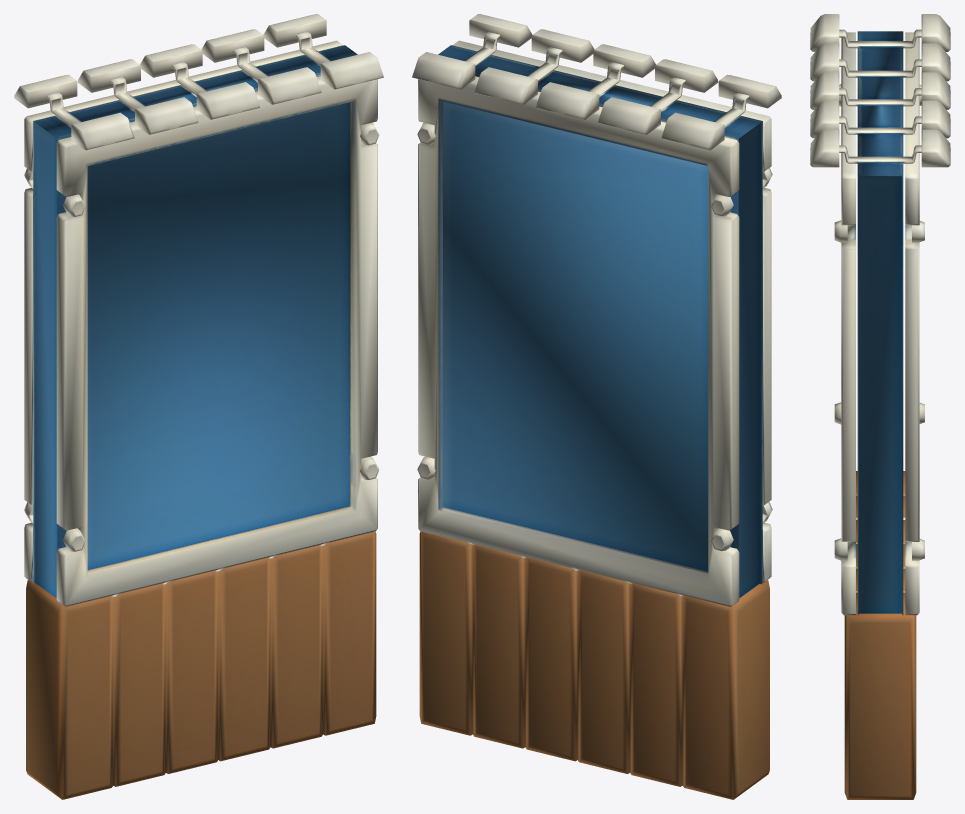
File: wl_fuel_billboard.glb
3 views of the same model, side by side, from view 1: azimuth 30°, elevation 25°; view 2: azimuth 150°, elevation 25°; view 3: azimuth 270°, elevation 25° (orthographic). The views are drawn at different scales.
Visible parts, largest first — view 1: wl_fuel_billboard; view 2: wl_fuel_billboard; view 3: wl_fuel_billboard.
Part boxes in pixels (x1=…): wl_fuel_billboard: x1=14, y1=14, x2=383, y2=799; wl_fuel_billboard: x1=412, y1=14, x2=781, y2=799; wl_fuel_billboard: x1=810, y1=14, x2=950, y2=799.
Size of the model in its own units: 0.4917 by 0.9995 by 0.1978.
Materials: 1 (1 with a texture image).
